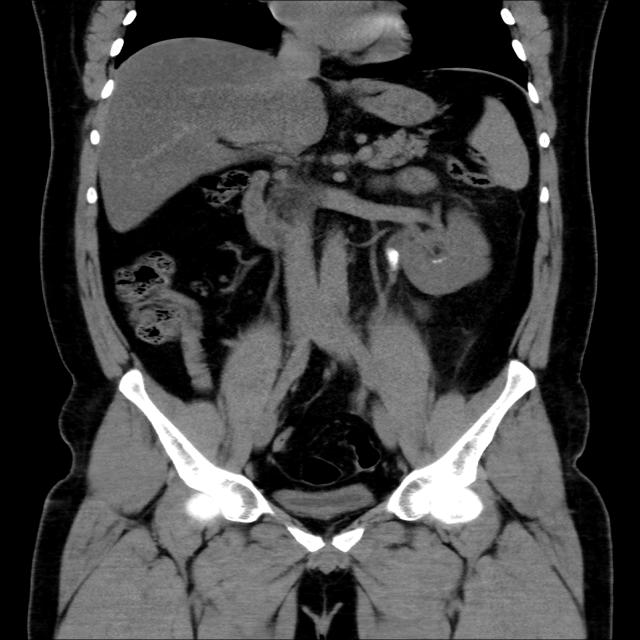kidneystone: (385, 248, 400, 271)
